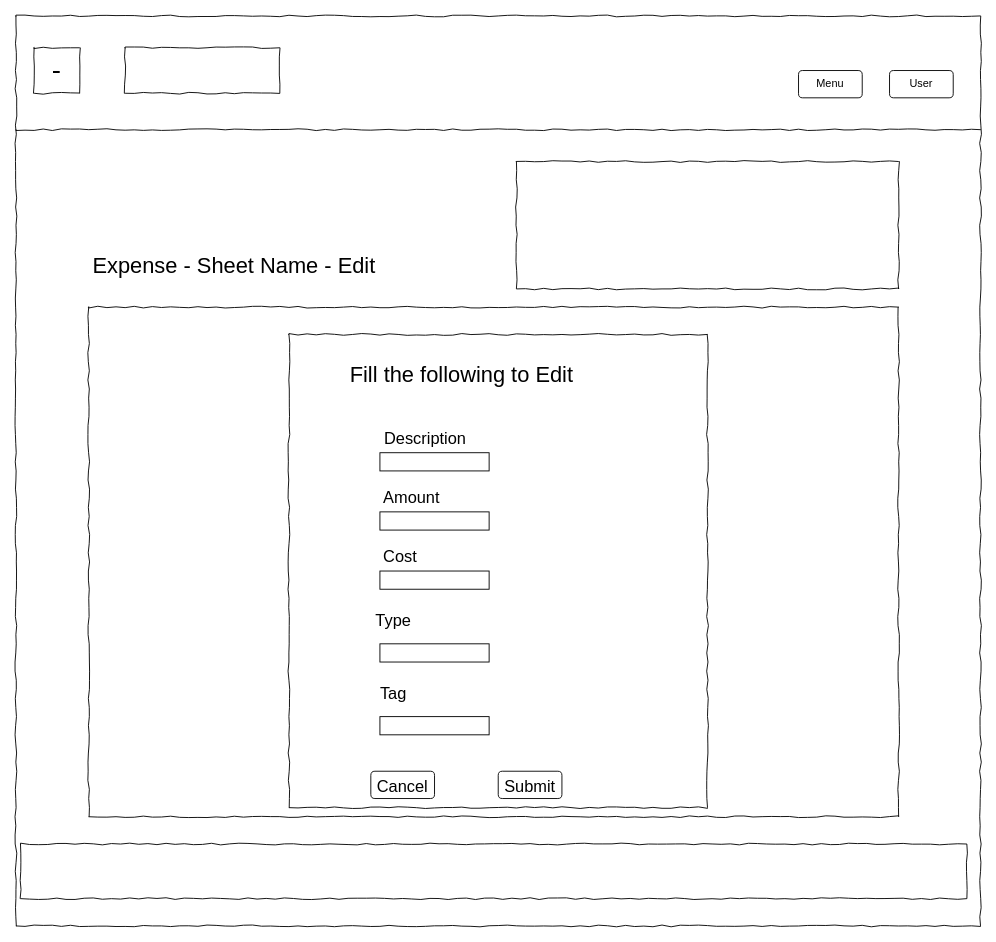
Image size: 996x942. Some labels were removed from this diagram. The centre of each missing label's shape, as x and y in pixels:
LOGO: (202,70)
Project Name: (707,225)
